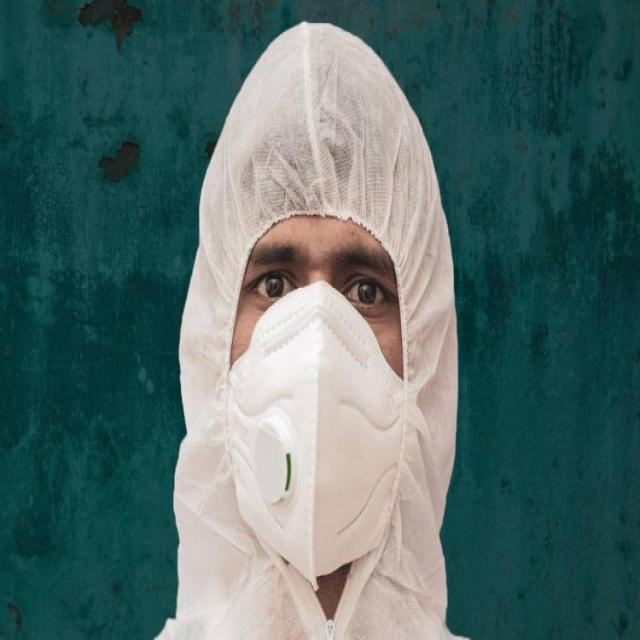Coverall: (172, 24, 460, 635)
Mask: (224, 280, 406, 581)
